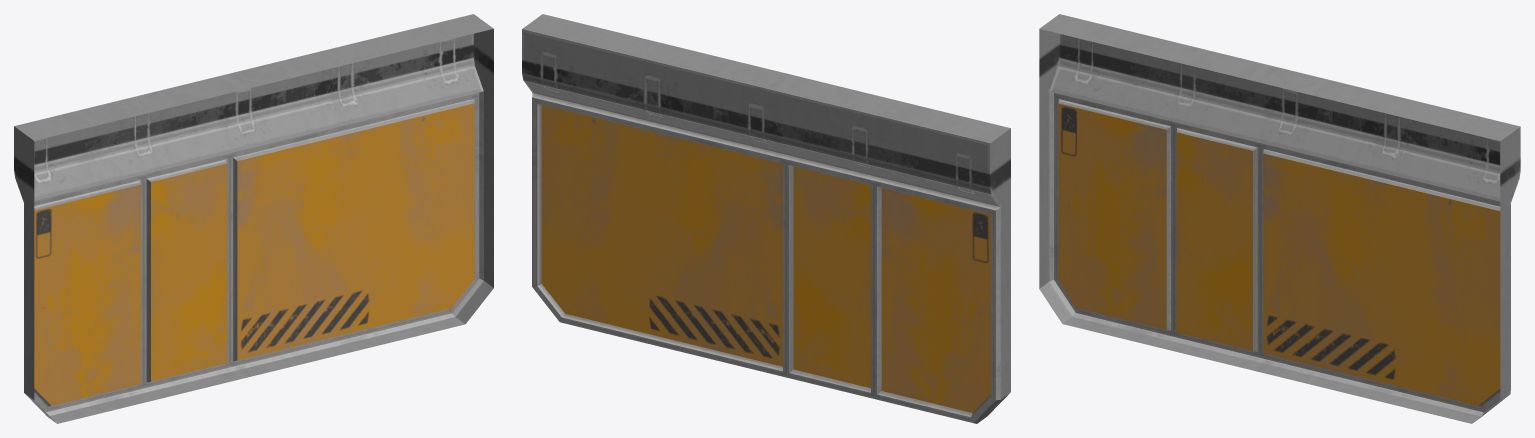
File: Pfb_Soda_Wall2.fbx
The picture shows the model from 3 angles, left to right: view 1: azimuth 30°, elevation 25°; view 2: azimuth 150°, elevation 25°; view 3: azimuth 330°, elevation 25°; orthographic projection.
Parts seen in each view (by area): view 1: scifi_wall2; view 2: scifi_wall2; view 3: scifi_wall2.
Boxes of the visible parts, left/top/right/bottom form: scifi_wall2: left=14, top=14, right=493, bottom=423; scifi_wall2: left=522, top=14, right=1010, bottom=423; scifi_wall2: left=1039, top=14, right=1520, bottom=423.
Size of the model in its own units: 200 by 120 by 15.22.
Materials: 1 (1 with a texture image).
